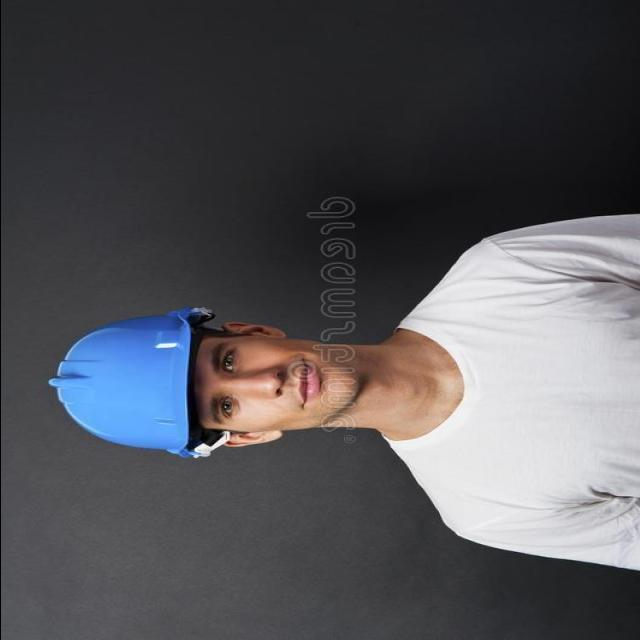jacket: (40, 287, 213, 470)
